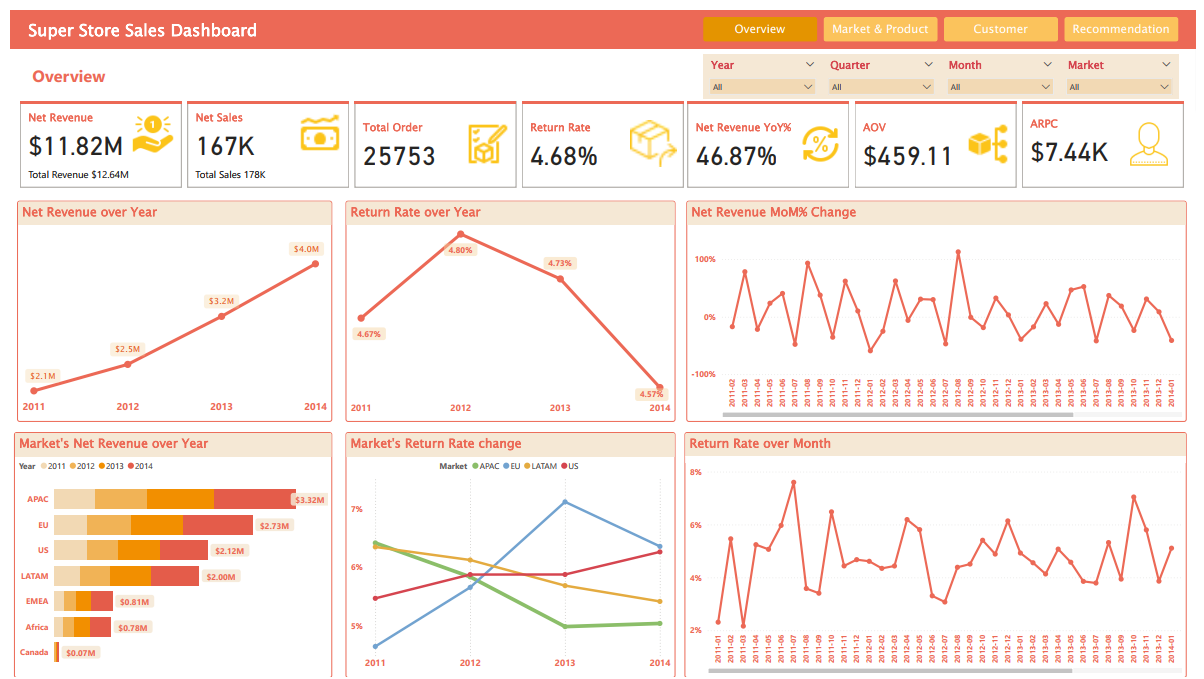

What the dashboard file says about the page in this screenshot:
{"tool":"powerbi","page":{"name":"Overview","canvas":[1920,1080],"ordinal":0},"visuals":[{"type":"shape","box":[0,0,1921.4,62.5],"z":0,"group":"g1"},{"type":"cardVisual","fields":{"Data":["_Measure.Net Revenue"]},"box":[12.4,141.6,270.8,149.1],"z":0},{"type":"cardVisual","fields":{"Data":["_Measure.Net Quantity"]},"box":[283.3,141.6,270.8,149.1],"z":1000},{"type":"textbox","box":[24.8,7.5,464.6,62.1],"z":2000,"group":"g1"},{"type":"cardVisual","fields":{"Data":["_Measure.Total Order"]},"box":[554.1,141.6,270.8,149.1],"z":2000},{"type":"lineChart","title":"Net Revenue over Year","fields":{"Category":["DimDate.Time Hierarchy.Year","DimDate.Time Hierarchy.YearQuarter","DimDate.Time Hierarchy.Month of Year"],"Y":["_Measure.Net Revenue"]},"box":[12.4,308.1,509.4,357.8],"z":3000},{"type":"pageNavigator","box":[1123.1,9.9,772.7,39.8],"z":4000,"group":"g1"},{"type":"cardVisual","fields":{"Data":["_Measure.Return Rate"]},"box":[824.9,141.6,270.8,149.1],"z":4000},{"type":"slicer","title":"fyggb","fields":{"Values":["DimDate.Time Hierarchy.Year"]},"box":[1123.1,69.6,192.6,72.1],"z":5000,"group":"g2"},{"type":"cardVisual","fields":{"Data":["_Measure.Avg Rev per Ord"]},"box":[1364.1,141.6,270.8,149.1],"z":5000},{"type":"cardVisual","fields":{"Data":["DimDate.Net Revenue YoY%"]},"box":[1093.3,141.6,270.8,149.1],"z":6000},{"type":"slicer","fields":{"Values":["DimDate.Time Hierarchy.YearQuarter"]},"box":[1315.7,69.6,192.6,72.1],"z":7000,"group":"g2"},{"type":"lineChart","title":"Net Revenue MoM% Change","fields":{"Y":["_Measure.Net Revenue MoM%"],"Category":["DimDate.Time Hierarchy.Month of Year"]},"box":[1095.8,308.1,810,357.8],"z":7000},{"type":"barChart","title":"Market''s Net Revenue over Year","fields":{"Category":["Orders.Location Hierarchy.Market","Orders.Location Hierarchy.New Region","Orders.Location Hierarchy.Country"],"Y":["_Measure.Net Revenue"],"Series":["DimDate.Year"]},"box":[7.5,683.3,514.3,397.6],"z":8000},{"type":"slicer","fields":{"Values":["DimDate.Month of Year"]},"box":[1508.2,69.6,192.6,72.1],"z":9000,"group":"g2"},{"type":"lineChart","title":"Return Rate over Year","fields":{"Y":["_Measure.Return Rate"],"Category":["DimDate.Time Hierarchy.Year","DimDate.Time Hierarchy.YearQuarter","DimDate.Time Hierarchy.Month of Year"]},"box":[544.2,308.1,534.2,357.8],"z":9000},{"type":"lineChart","title":"Return Rate over Month","fields":{"Y":["_Measure.Return Rate"],"Category":["DimDate.Month of Year"]},"box":[1093.3,683.3,812.5,397.6],"z":10000},{"type":"lineChart","title":"Market''s Return Rate change ","fields":{"Category":["DimDate.Time Hierarchy.Year"],"Y":["_Measure.Return Rate"],"Series":["Orders.Market"]},"box":[544.2,683.3,534.2,397.6],"z":11000},{"type":"cardVisual","fields":{"Data":["_Measure.Avg Rev per Customer"]},"box":[1634.9,141.6,270.8,149.1],"z":12000},{"type":"textbox","box":[32.3,82,288.2,62.1],"z":13000},{"type":"group","id":"g1","title":"Group 1","box":[0,0,1921.4,69.6],"z":14000},{"type":"group","id":"g2","title":"Group 2","box":[1123.1,69.6,770.3,72.1],"z":15000},{"type":"slicer","fields":{"Values":["Orders.Market"]},"box":[1700.8,69.6,192.6,72.1],"z":17001,"group":"g2"}]}

Visuals, with their boxes in screenshot pixels (x1, y1, x2, y2), scaled from the page's 1920x1080 canvas onto the 1204x679 screenshot:
shape: (0,0,1203,39)
cardVisual - _Measure.Net Revenue: (8,89,178,183)
cardVisual - _Measure.Net Quantity: (178,89,347,183)
textbox: (16,5,307,44)
cardVisual - _Measure.Total Order: (347,89,517,183)
"Net Revenue over Year" lineChart: (8,194,327,419)
pageNavigator: (704,6,1189,31)
cardVisual - _Measure.Return Rate: (517,89,687,183)
"fyggb" slicer: (704,44,825,89)
cardVisual - _Measure.Avg Rev per Ord: (855,89,1025,183)
cardVisual - DimDate.Net Revenue YoY%: (686,89,855,183)
slicer - DimDate.Time Hierarchy.YearQuarter: (825,44,946,89)
"Net Revenue MoM% Change" lineChart: (687,194,1195,419)
"Market''s Net Revenue over Year" barChart: (5,430,327,678)
slicer - DimDate.Month of Year: (946,44,1067,89)
"Return Rate over Year" lineChart: (341,194,676,419)
"Return Rate over Month" lineChart: (686,430,1195,678)
"Market''s Return Rate change " lineChart: (341,430,676,678)
cardVisual - _Measure.Avg Rev per Customer: (1025,89,1195,183)
textbox: (20,52,201,91)
"Group 1" group: (0,0,1203,44)
"Group 2" group: (704,44,1187,89)
slicer - Orders.Market: (1067,44,1187,89)
